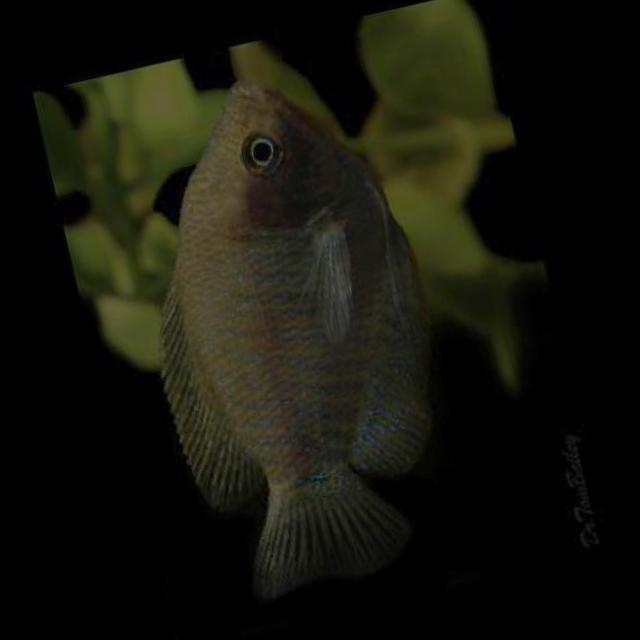Gourami: (89, 42, 487, 624)
